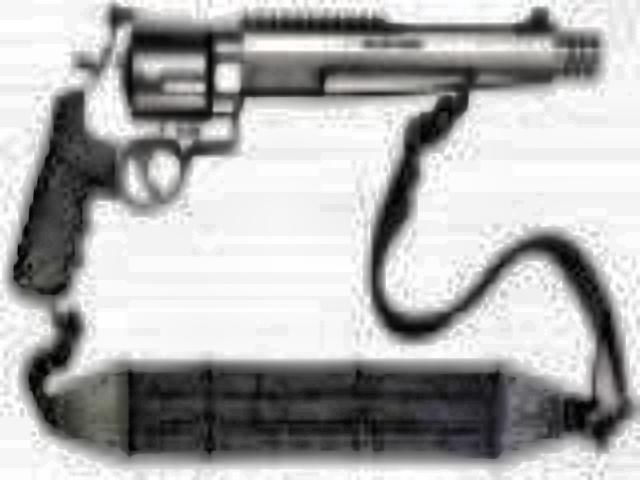pistol: (4, 0, 592, 304)
